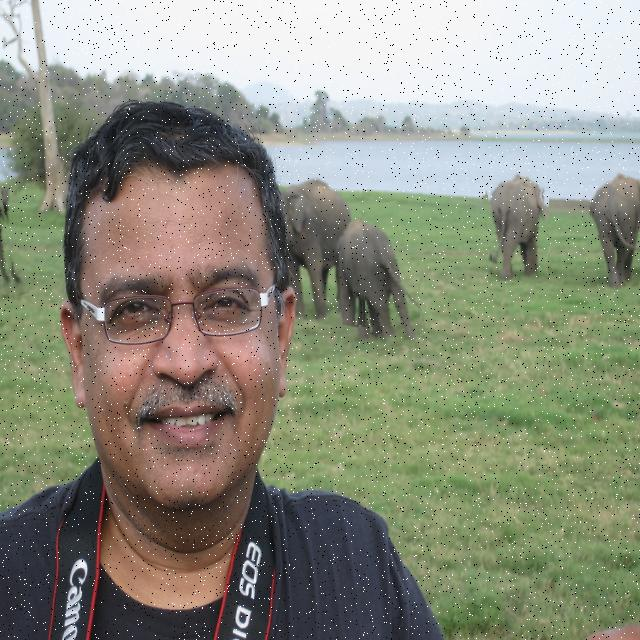elephant: (318, 204, 420, 350), (269, 176, 362, 325), (488, 163, 550, 281), (590, 171, 640, 300), (0, 175, 21, 296)
